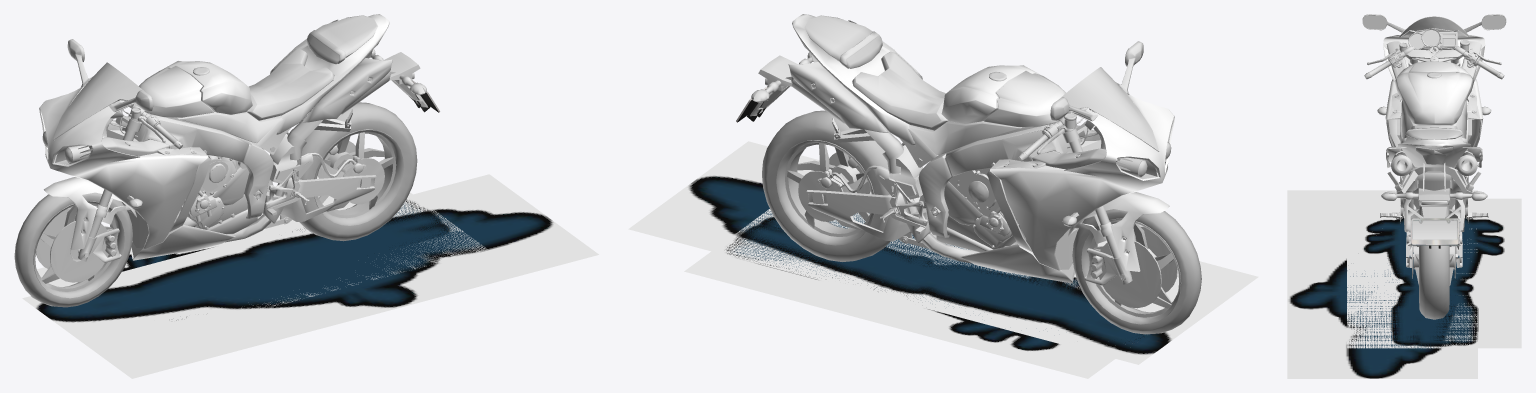
File: bike10.fbx
The picture shows the model from 3 angles, left to right: view 1: azimuth 30°, elevation 25°; view 2: azimuth 150°, elevation 25°; view 3: azimuth 270°, elevation 25°; orthographic projection. The views are drawn at different scales.
Parts seen in each view (by area): view 1: Shadow_SunSet, Chrome, Body, Wheel_B, Wheel_F, Shadow_DayLight, Glass, Steering, Rim_B, Rim_F; view 2: Chrome, Shadow_SunSet, Body, Shadow_DayLight, Wheel_B, Wheel_F, Steering, Glass, Rim_B, Rim_F; view 3: Shadow_DayLight, Shadow_SunSet, Chrome, Body, Wheel_B, Steering, Plate, Glass, Mirror.
Part boxes in pixels (box(x1,y1,x2,y2)): Shadow_SunSet: box(22, 174, 598, 378); Chrome: box(35, 15, 428, 282); Body: box(39, 14, 389, 249); Wheel_B: box(291, 102, 417, 241); Wheel_F: box(14, 192, 132, 307); Shadow_DayLight: box(37, 192, 487, 347); Glass: box(53, 62, 144, 140); Steering: box(69, 99, 182, 262); Rim_B: box(319, 132, 394, 211); Rim_F: box(40, 205, 113, 283); Chrome: box(750, 15, 1177, 308); Shadow_SunSet: box(628, 141, 1258, 364); Body: box(792, 14, 1174, 271); Shadow_DayLight: box(684, 209, 1177, 378); Wheel_B: box(762, 110, 899, 261); Wheel_F: box(1072, 209, 1201, 334); Steering: box(1018, 107, 1142, 285); Glass: box(1059, 67, 1159, 151); Rim_B: box(787, 143, 869, 229); Rim_F: box(1093, 223, 1173, 308); Shadow_DayLight: box(1347, 198, 1521, 348); Shadow_SunSet: box(1287, 190, 1477, 378); Chrome: box(1362, 14, 1506, 278); Body: box(1383, 30, 1485, 167); Wheel_B: box(1419, 206, 1449, 319); Steering: box(1364, 40, 1504, 79); Plate: box(1410, 218, 1459, 245); Glass: box(1398, 16, 1469, 37); Mirror: box(1363, 15, 1505, 29).
Bounding box in the file's own units: 350 × 157 × 164.
